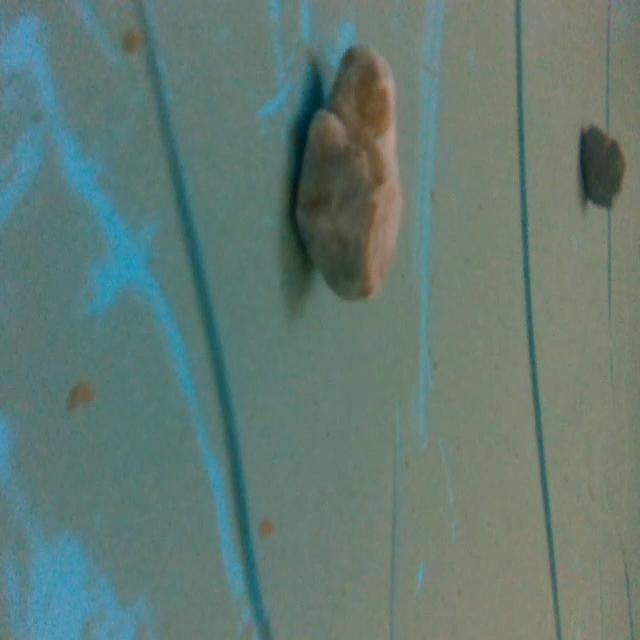rock: (287, 32, 409, 309), (576, 114, 627, 213)
